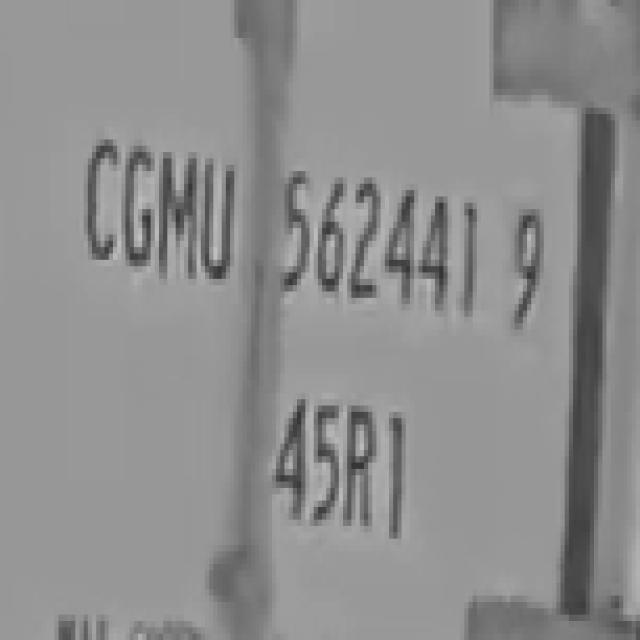dv: (498, 188, 548, 336)
owner: (64, 129, 244, 300)
serial: (273, 156, 479, 328)
size: (264, 383, 418, 547)
